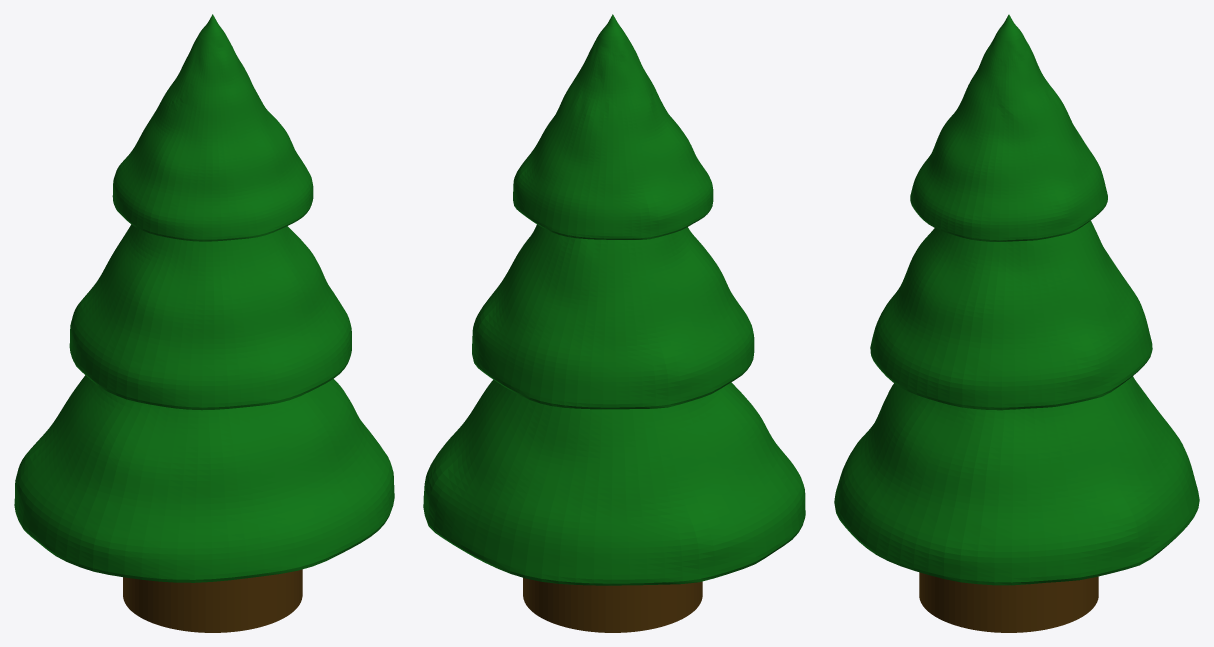
File: tree_1.glb
3 renders of one model, left to right at view 1: azimuth 30°, elevation 25°; view 2: azimuth 150°, elevation 25°; view 3: azimuth 270°, elevation 25°, orthographic.
Visible parts, largest first — view 1: Cone 2, Cone 1, Cone, Cylinder; view 2: Cone 2, Cone 1, Cone, Cylinder; view 3: Cone 2, Cone 1, Cone, Cylinder.
Boxes of the visible parts, left/top/right/bottom form: Cone 2: left=14, top=375, right=394, bottom=582; Cone 1: left=69, top=224, right=351, bottom=410; Cone: left=112, top=14, right=313, bottom=241; Cylinder: left=123, top=569, right=302, bottom=632; Cone 2: left=423, top=379, right=805, bottom=585; Cone 1: left=472, top=224, right=754, bottom=409; Cone: left=513, top=14, right=713, bottom=239; Cylinder: left=523, top=578, right=702, bottom=632; Cone 2: left=834, top=376, right=1199, bottom=585; Cone 1: left=870, top=220, right=1152, bottom=410; Cone: left=910, top=14, right=1107, bottom=241; Cylinder: left=919, top=572, right=1098, bottom=632.
Bounding box in the file's own units: 1.34 × 2.23 × 1.27.
